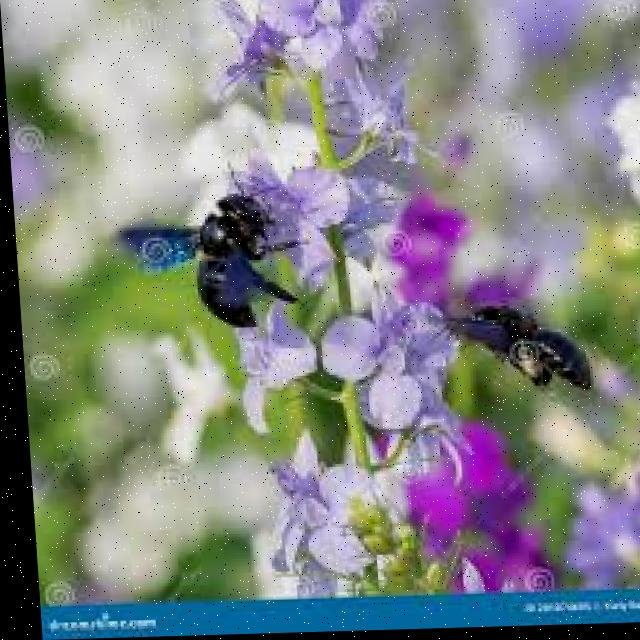Xylocopa: (119, 173, 310, 341), (421, 281, 595, 414)
